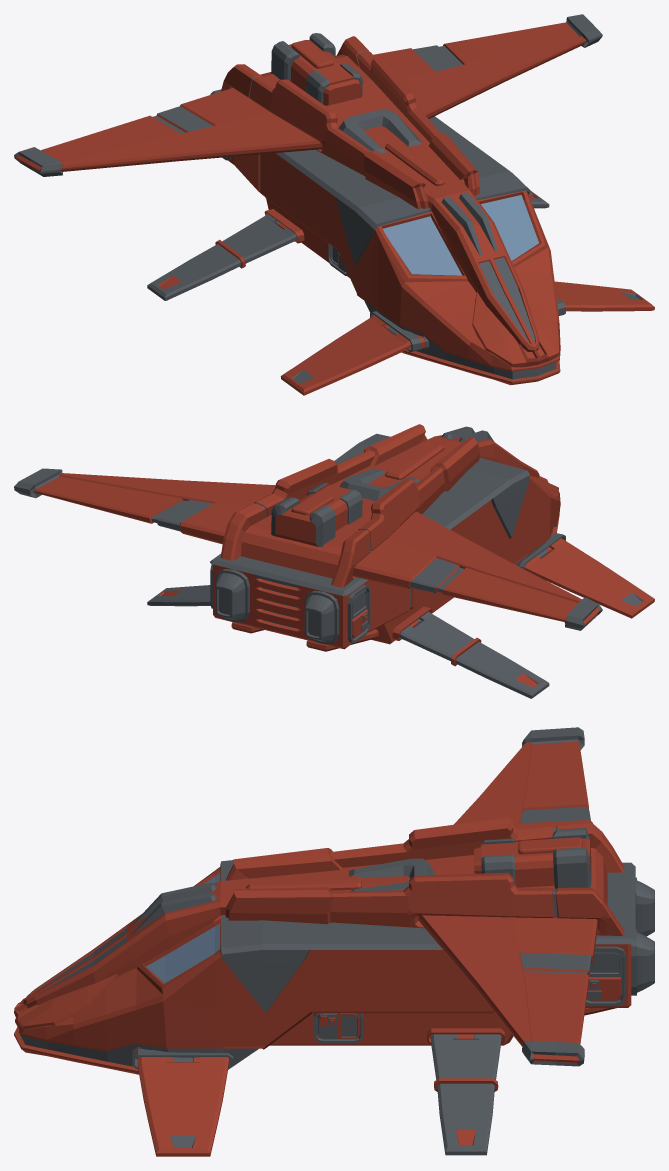
File: Fighter_04_Red.fbx
3 views of the same model, one above another, from view 1: azimuth 30°, elevation 25°; view 2: azimuth 150°, elevation 25°; view 3: azimuth 270°, elevation 25° (orthographic). The views are drawn at different scales.
Visible parts, largest first — view 1: Fighter_04_Red; view 2: Fighter_04_Red; view 3: Fighter_04_Red.
Part boxes in pixels (x1=…): Fighter_04_Red: x1=14, y1=14, x2=654, y2=395; Fighter_04_Red: x1=14, y1=424, x2=654, y2=698; Fighter_04_Red: x1=14, y1=727, x2=654, y2=1156.
Bounding box in the file's own units: 1945 × 600 × 1602.
Materials: 3 (3 with a texture image).
